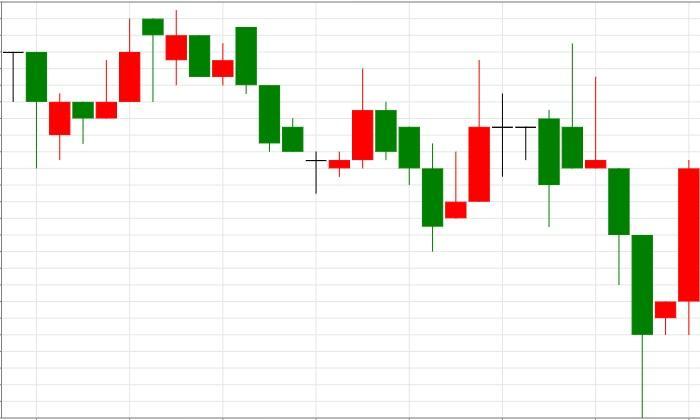hanging_man_fall: (49, 18, 163, 161)
